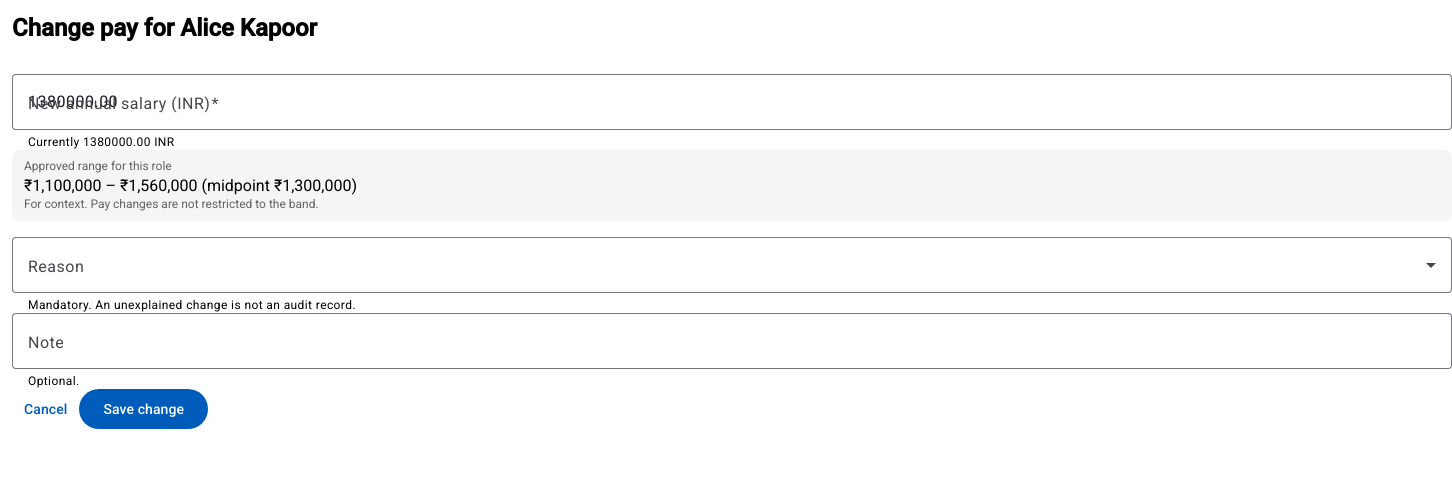
it: ChangeSalaryDialogComponent › refuses an amount with more precision than money has
The image size is (1452, 482).
Replace the text in the field named "amount" with "1500000.555". click: (732, 102)
box: [28,90,1436,114]
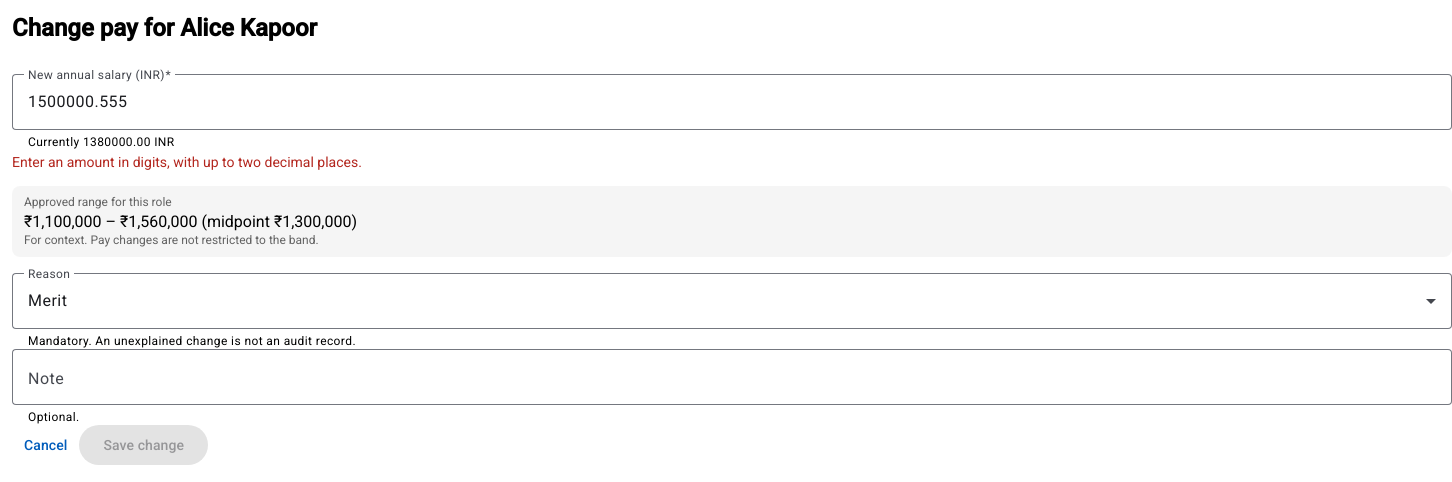
Result: the button named "save" is disabled at [79,425,208,465]
